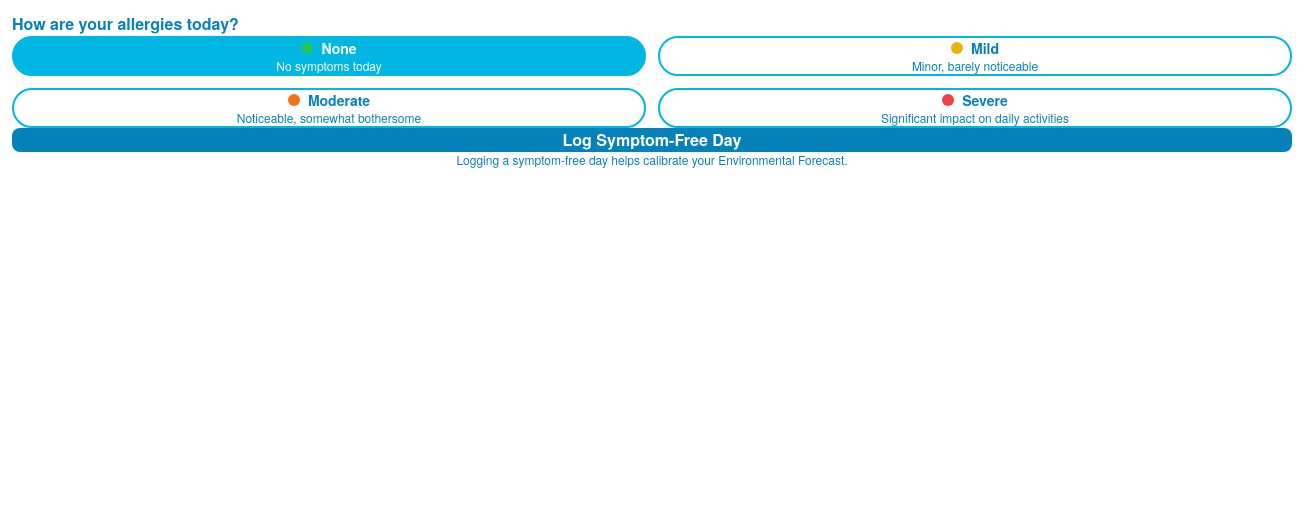
it: CheckinForm › shows 'Submit Check-in' when severity > 0
The width and height of the screenshot is (1304, 525).
Select severity 2
What coordinates should you click on to do the following:
click the radio button with test id "severity-2"
I would click on:
 (329, 108)
Its box is [12, 88, 646, 128].
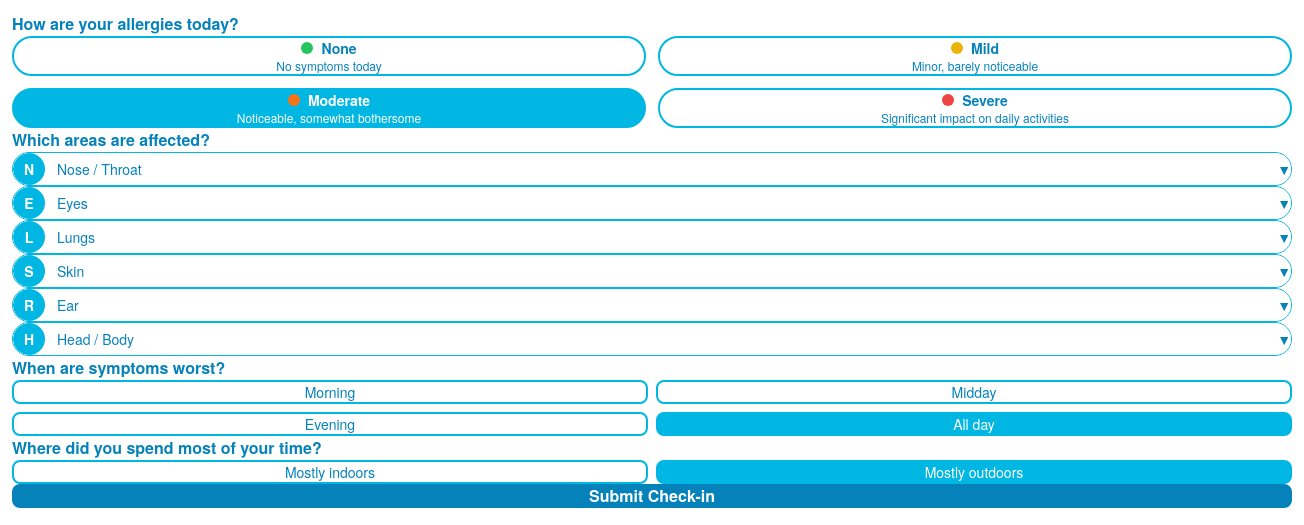
Result: the button "Submit Check-in" is shown at [12, 484, 1292, 508]
